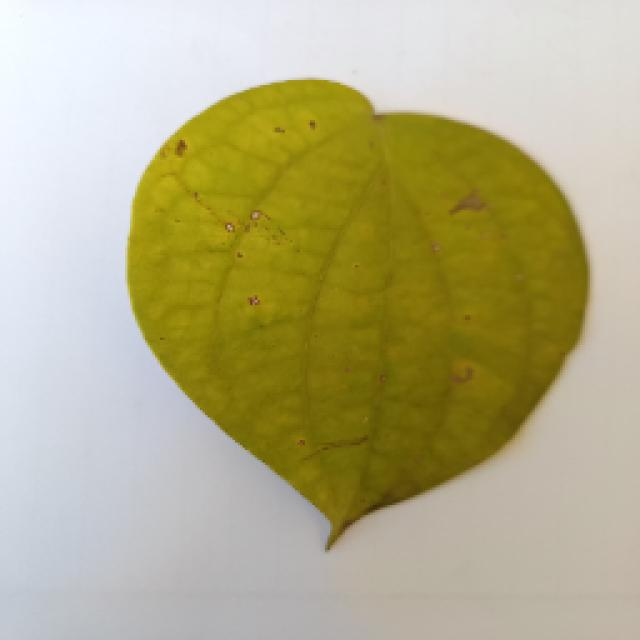slow-decline: (100, 80, 602, 558)
